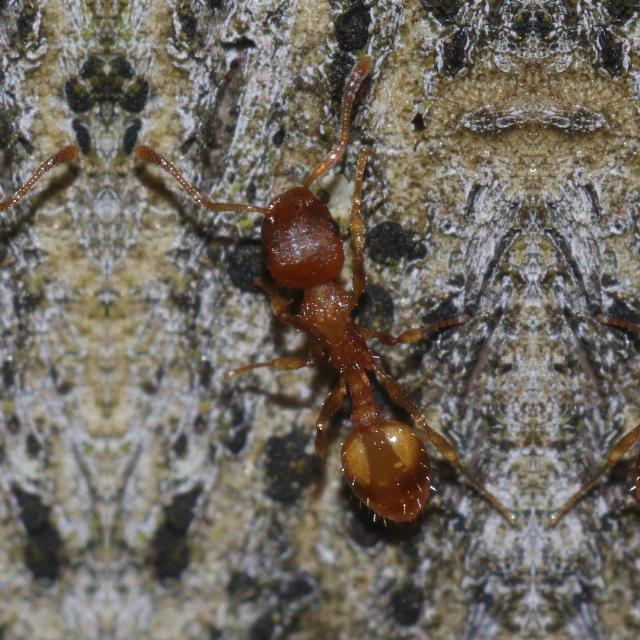Temnothorax: (216, 91, 486, 554), (578, 91, 640, 554)
